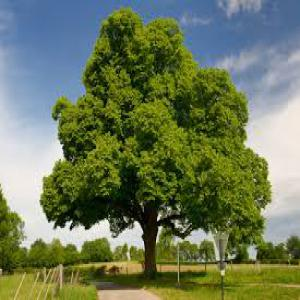Tree: (39, 3, 274, 274)
